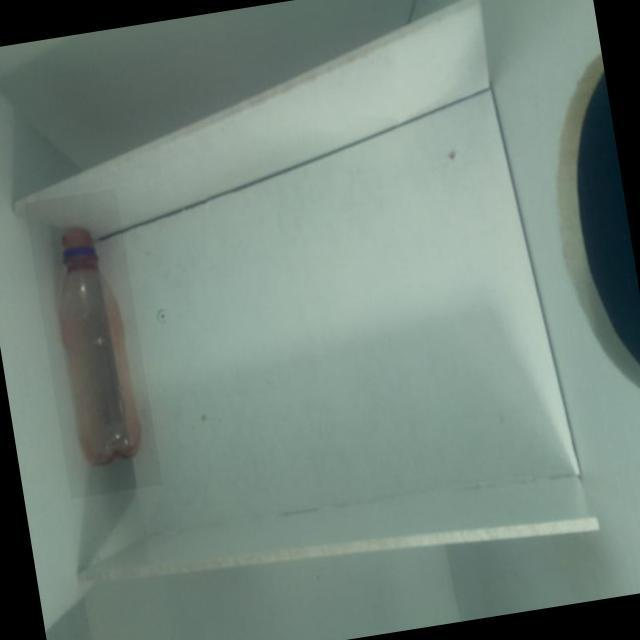good: (24, 188, 163, 499)
